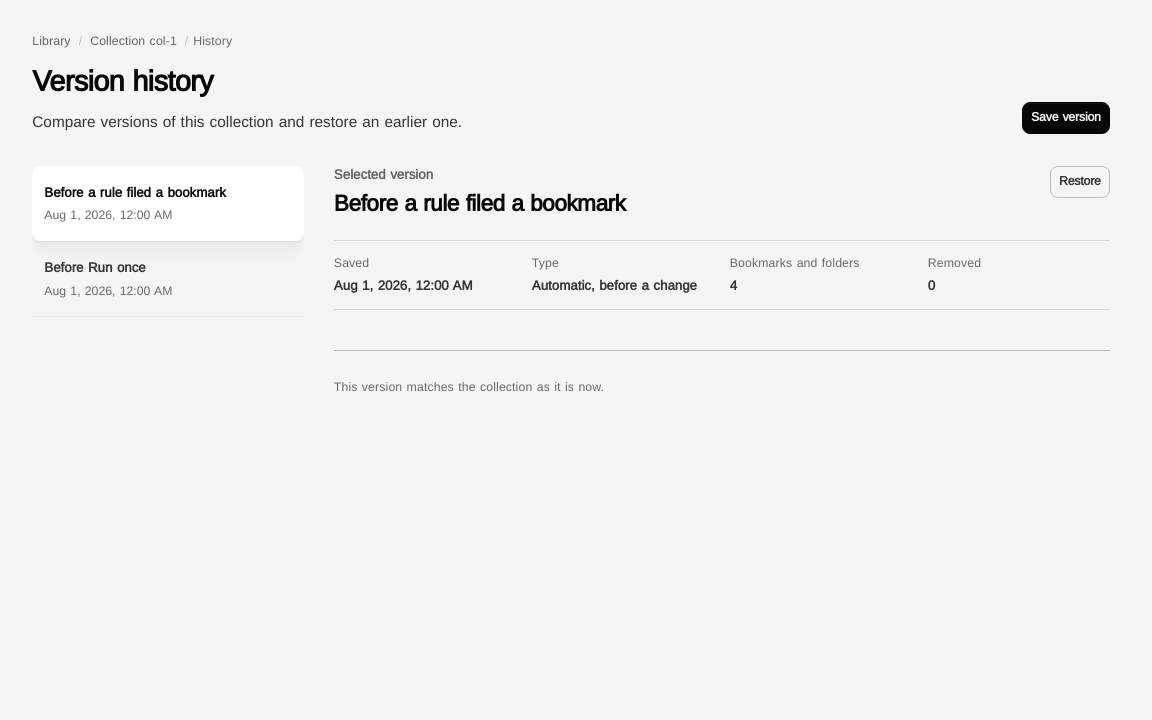
Test: Collection history version names › names the versions saved before a rule moves bookmarks the way the Automations pages do
Click the button "Restore" at (1080, 182), box [1050,166,1110,198]
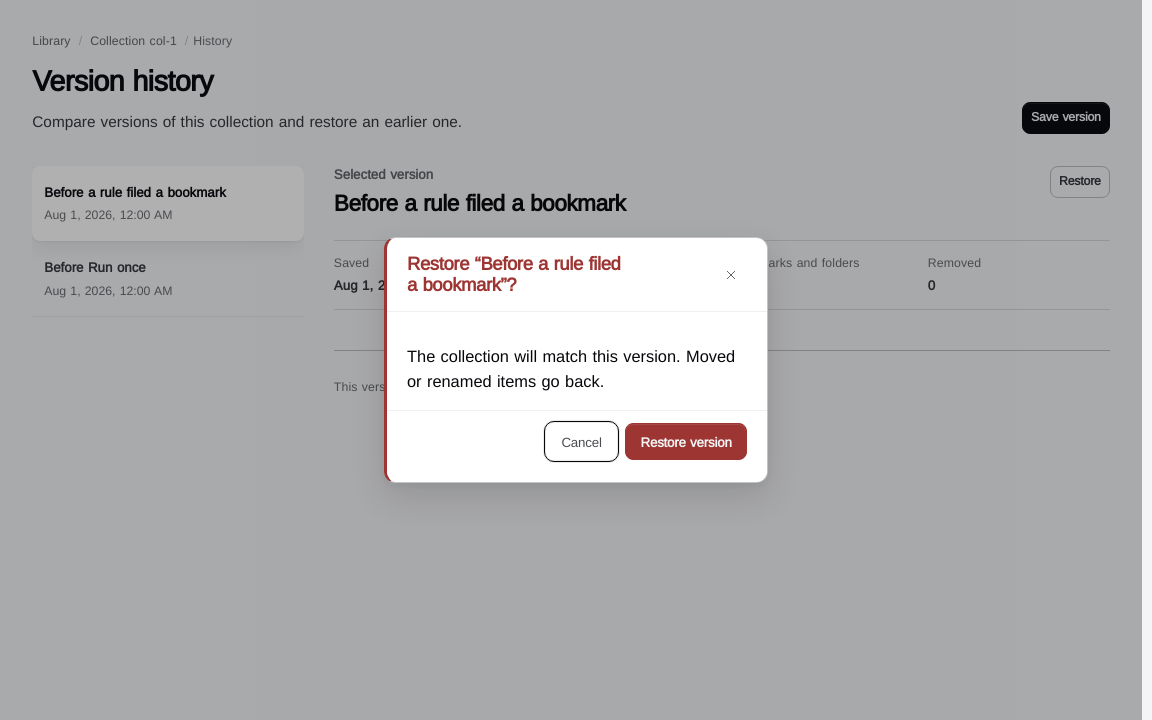
Now the dialog shows "Restore “Before a rule filed a bookmark”?", box [407,253,620,295]
